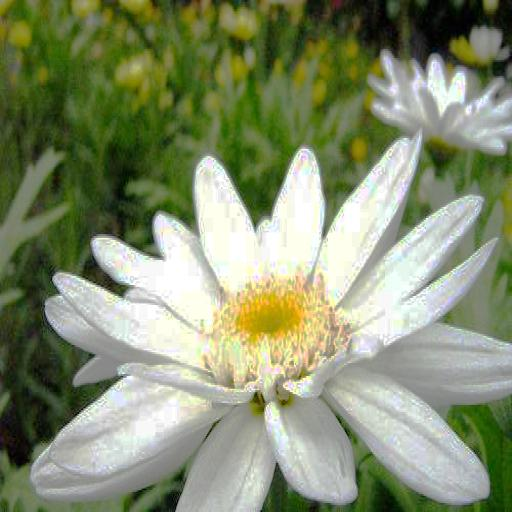daisy: (39, 154, 502, 512), (369, 56, 512, 145)
